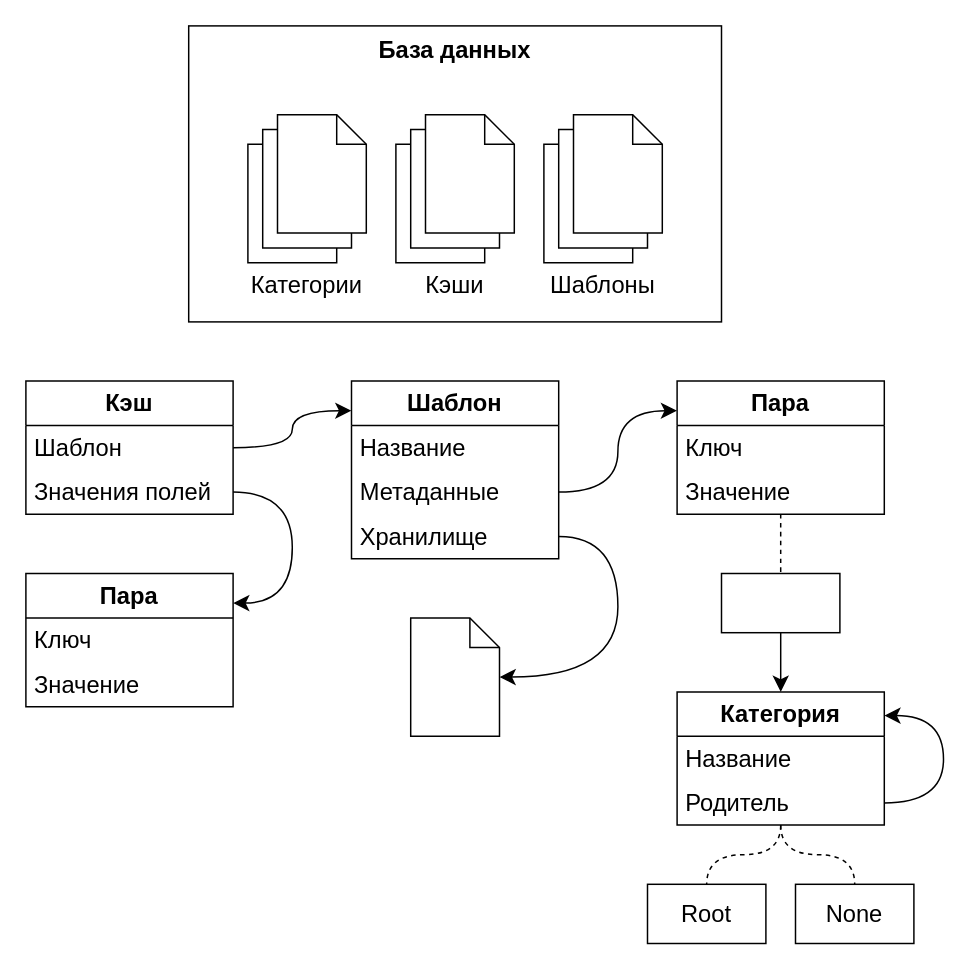
This 969x969 diagram has some shape labels left out. Each missing label, with the centre of its shape:
Category: (x=780, y=602)
XML: (x=454, y=676)
